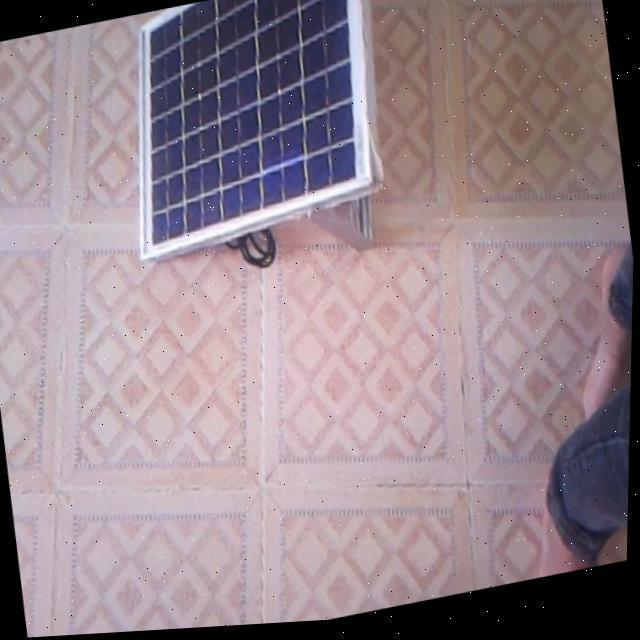Normal Solar Panel: (108, 0, 398, 262)
